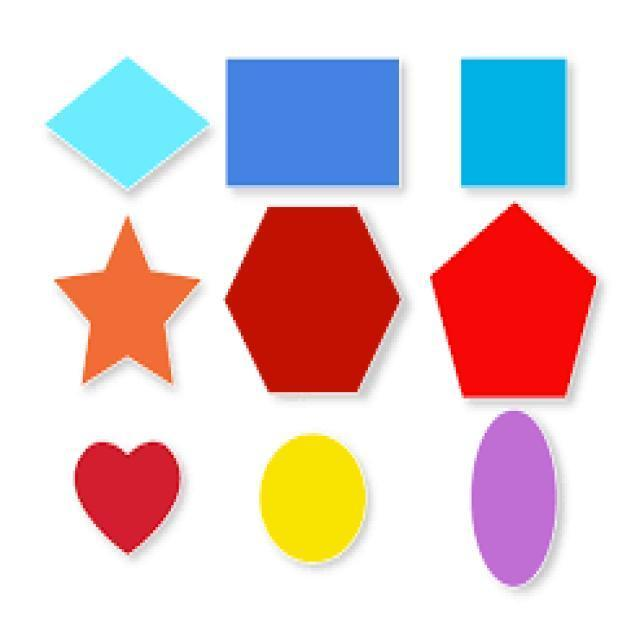circle: (253, 413, 381, 589)
square: (203, 53, 429, 204), (433, 28, 599, 212)
